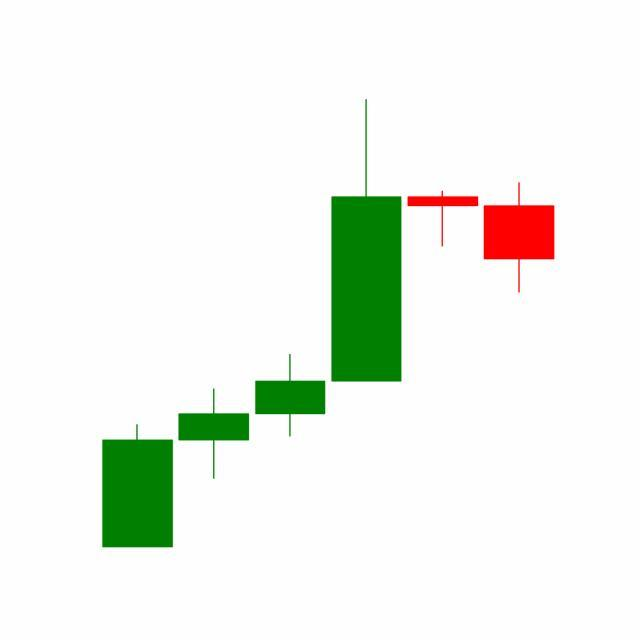Dragonfly Doji: (404, 190, 482, 248)
